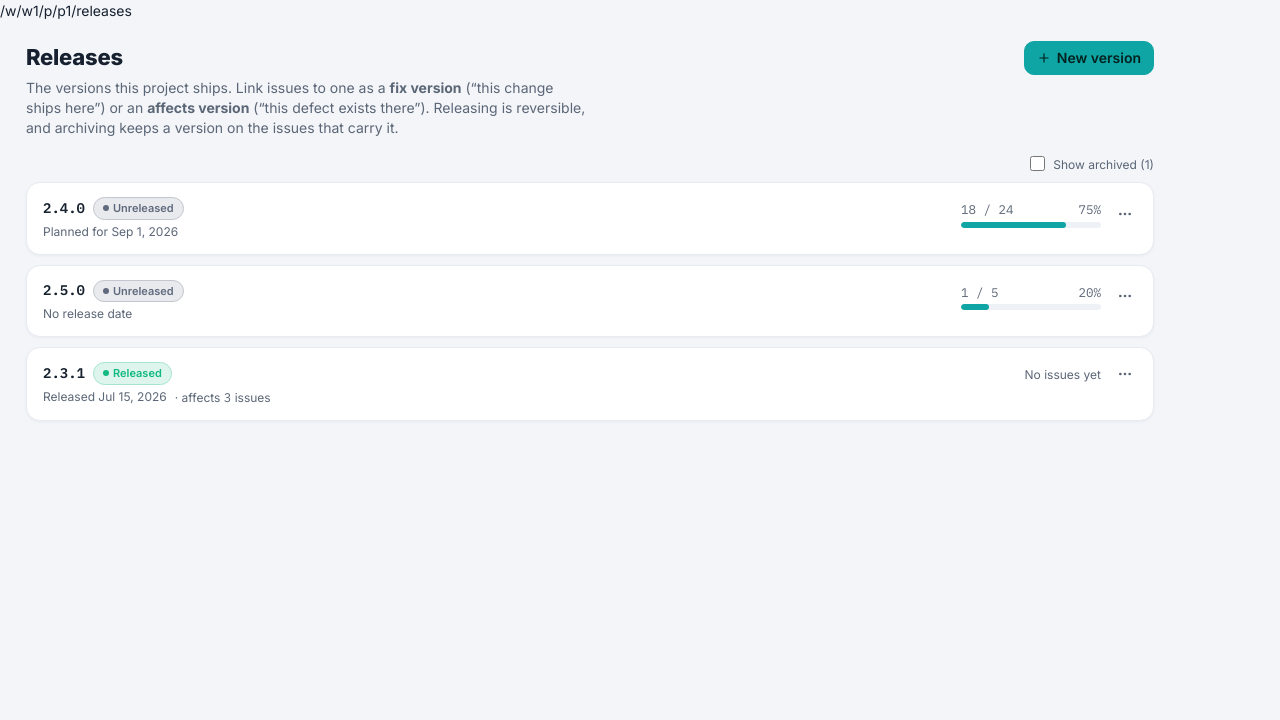
ReleasesPage — move vs remap target lists are deliberately different › delete: the remap target list keeps released versions and drops archived ones
The image size is (1280, 720).
Click the button named "Actions for 2.4.0": (1125, 214) [1113, 202, 1137, 226]
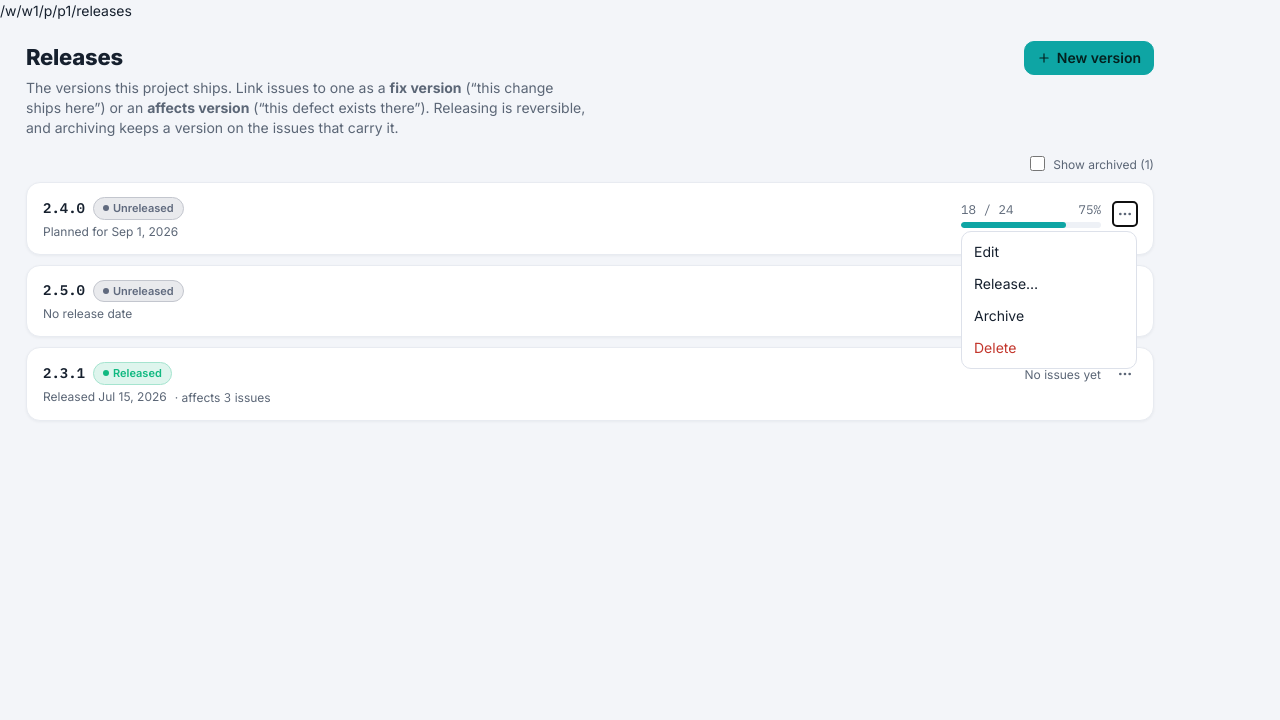
Click the menu item "Delete": (1049, 348) [962, 332, 1136, 364]
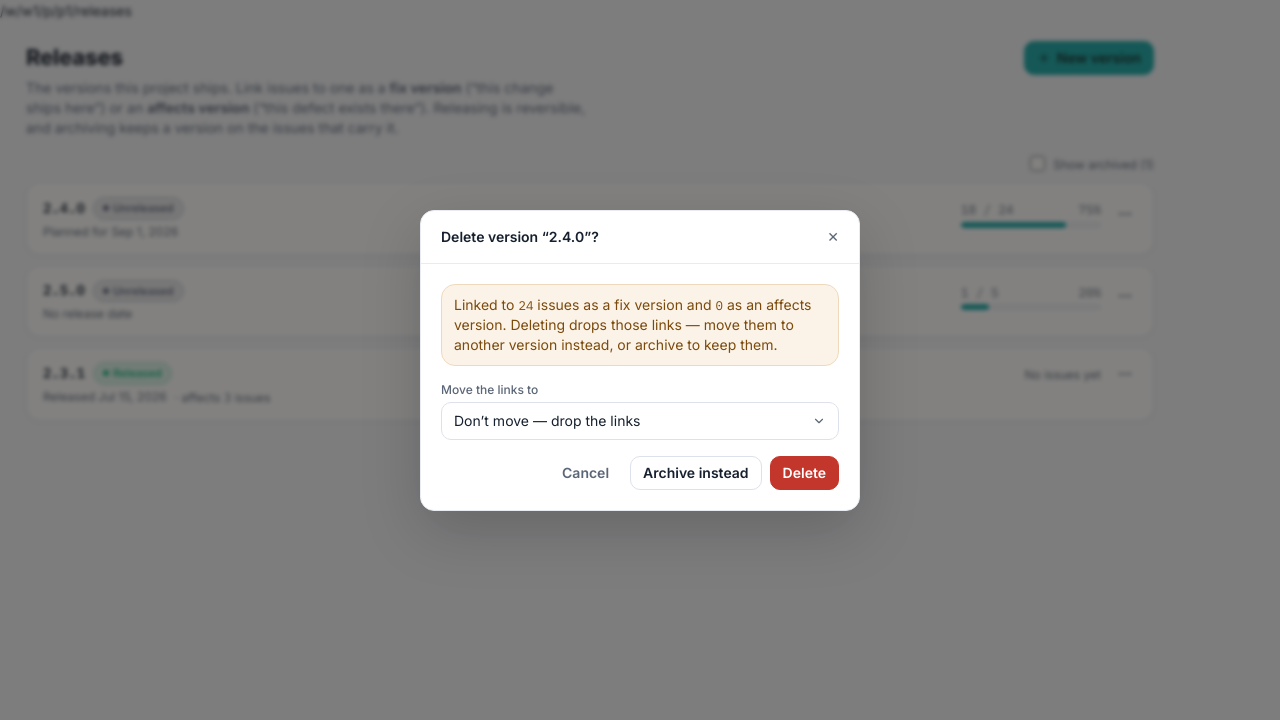
Click the button named "Move the links to": (640, 420) [441, 402, 839, 440]
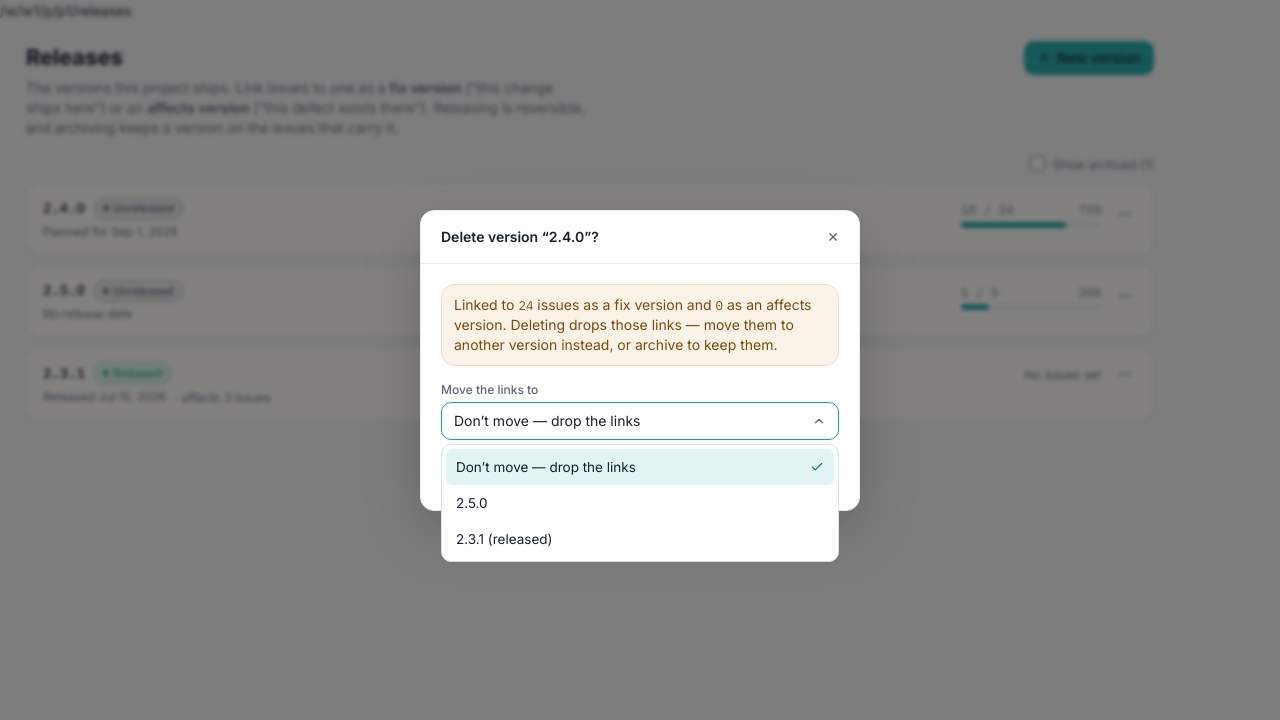
Result: the option "2.5.0" is shown at [456, 495, 488, 511]
Result: the option "2.3.1 (released)" is shown at [456, 531, 552, 547]
